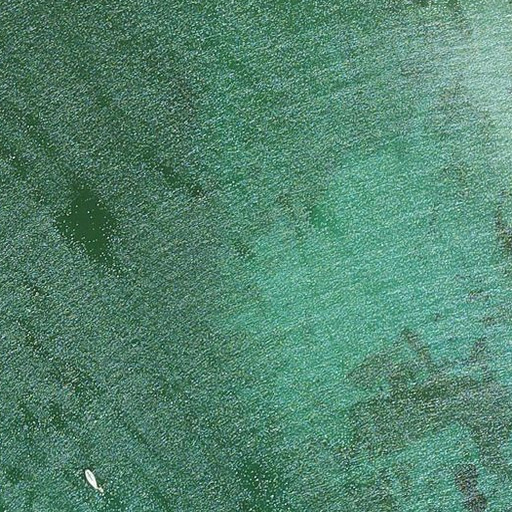ship: (80, 465, 101, 492)
